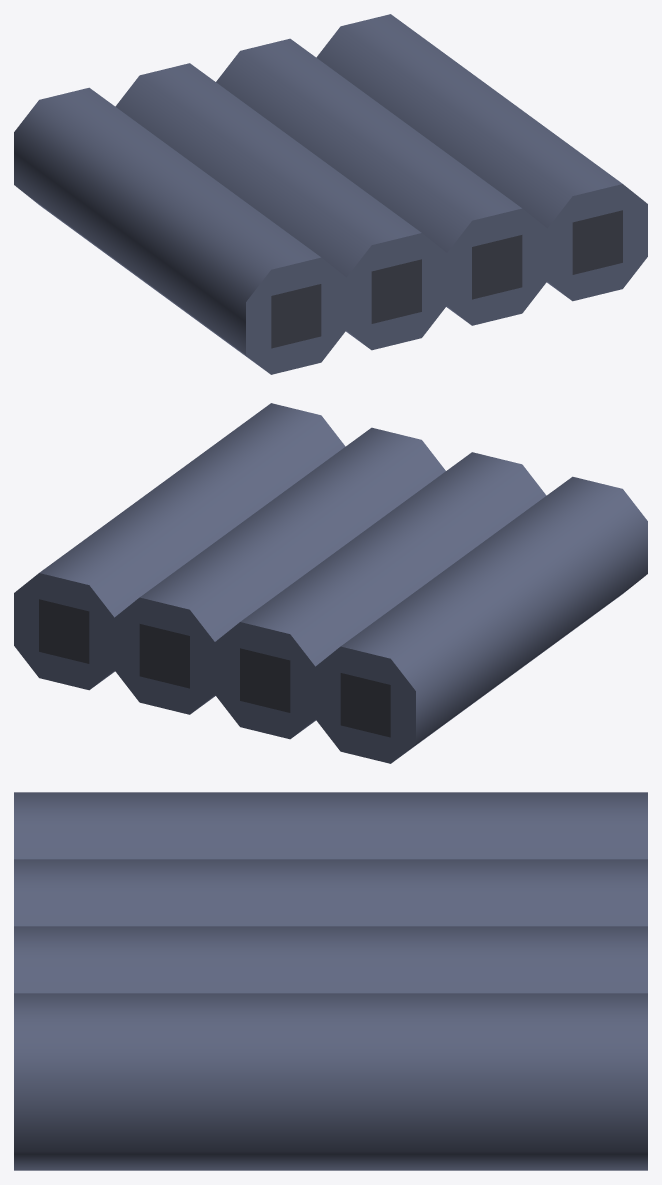
The model's file is ConveyorBars-transformed.glb.
3 views of the same model, one above another, from view 1: azimuth 30°, elevation 25°; view 2: azimuth 150°, elevation 25°; view 3: azimuth 270°, elevation 25° (orthographic). The views are drawn at different scales.
Visible parts, largest first — view 1: conveyor-bars; view 2: conveyor-bars; view 3: conveyor-bars.
Boxes of the visible parts, box(x1,y1,x2,y2) form: conveyor-bars: box(14, 14, 647, 374); conveyor-bars: box(14, 403, 647, 763); conveyor-bars: box(14, 792, 647, 1170).
Size of the model in its own units: 1 by 0.25 by 1.
